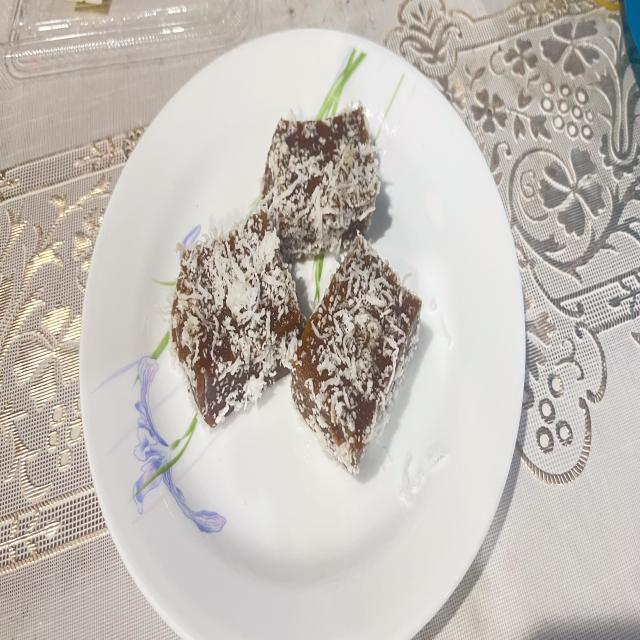kaswi: (291, 233, 421, 473), (171, 209, 305, 427), (261, 107, 380, 260)
